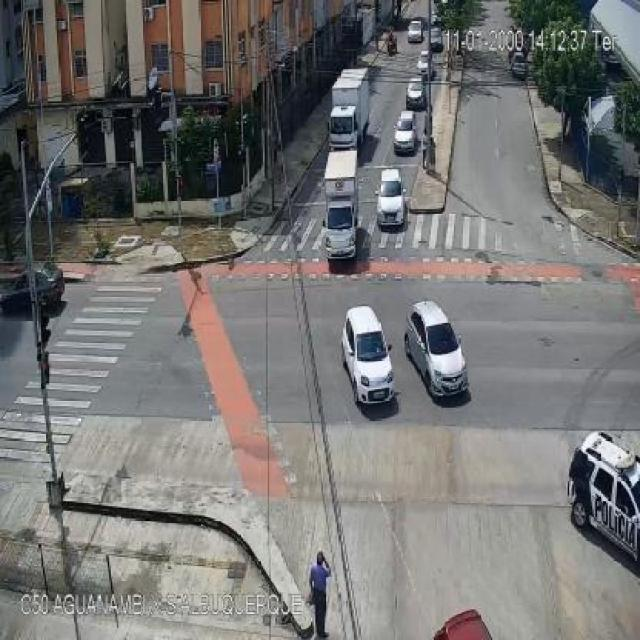Car: (567, 432, 640, 574), (407, 301, 470, 399), (342, 304, 396, 404), (1, 262, 65, 312), (376, 168, 405, 228), (393, 112, 417, 154), (406, 81, 427, 108), (511, 53, 528, 80), (407, 20, 424, 42), (429, 26, 443, 52), (417, 52, 432, 76), (430, 10, 440, 27)
Truck: (322, 151, 359, 260), (330, 69, 372, 152)
